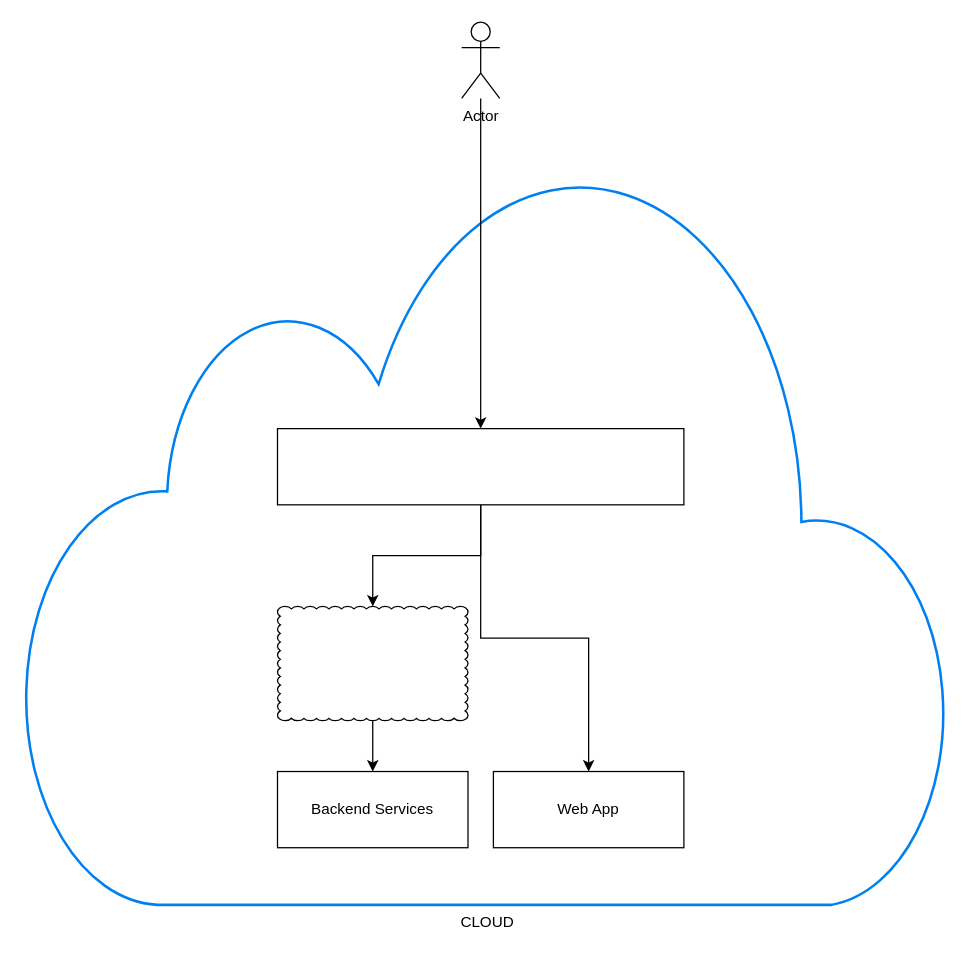
Some shapes in this 973 by 954 pixel diagram are drawn without their labels. Here are the shapes that lost their labels. From the top down, the centre of each, then its label:
At point 480,466: "Application Gateway".
At point 372,663: "Future Orchestration Layer for frontends".
